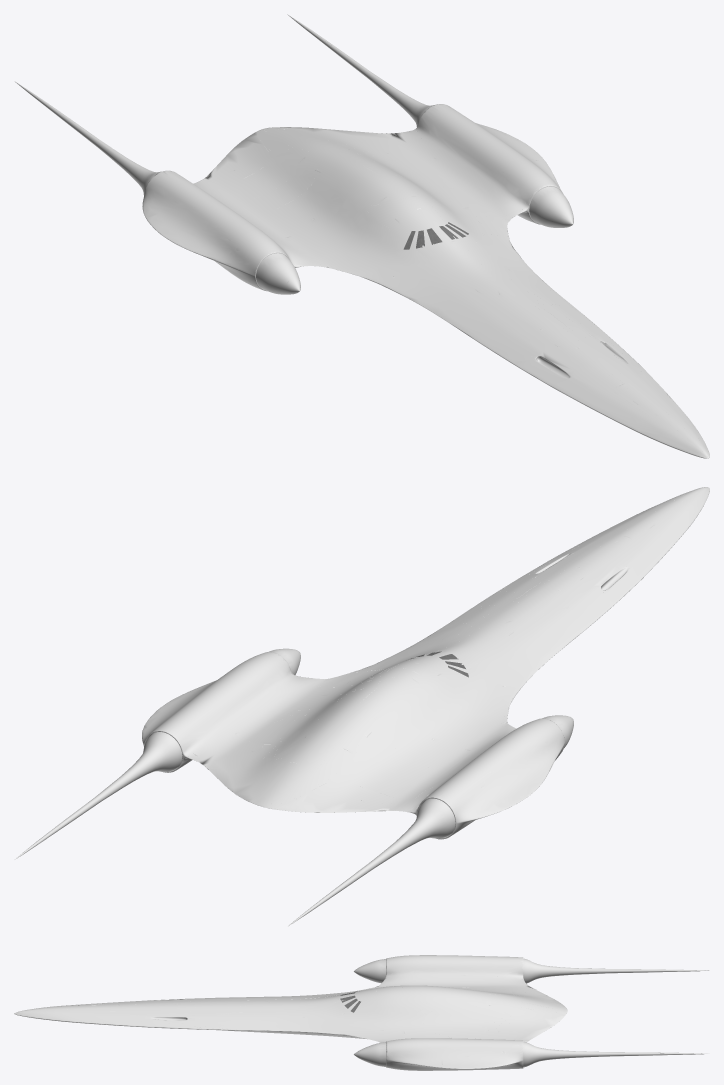
File: naboo_royal_starship-transformed.glb
The picture shows the model from 3 angles, top to bottom: view 1: azimuth 30°, elevation 25°; view 2: azimuth 150°, elevation 25°; view 3: azimuth 270°, elevation 25°; orthographic projection. The views are drawn at different scales.
Visible parts, largest first — view 1: Object_4, Object_5, Object_6; view 2: Object_4, Object_5, Object_6; view 3: Object_4, Object_5, Object_6.
Part boxes in pixels (bbox=[...]): Object_4: bbox=[142, 104, 707, 458]; Object_5: bbox=[14, 14, 709, 458]; Object_6: bbox=[145, 104, 709, 457]; Object_4: bbox=[142, 487, 709, 839]; Object_5: bbox=[14, 488, 709, 926]; Object_6: bbox=[144, 487, 708, 839]; Object_4: bbox=[15, 955, 567, 1070]; Object_5: bbox=[14, 958, 709, 1067]; Object_6: bbox=[15, 956, 565, 1070].
Size of the model in its own units: 4.06 by 0.7364 by 10.71.
Materials: 3 (2 with a texture image).
